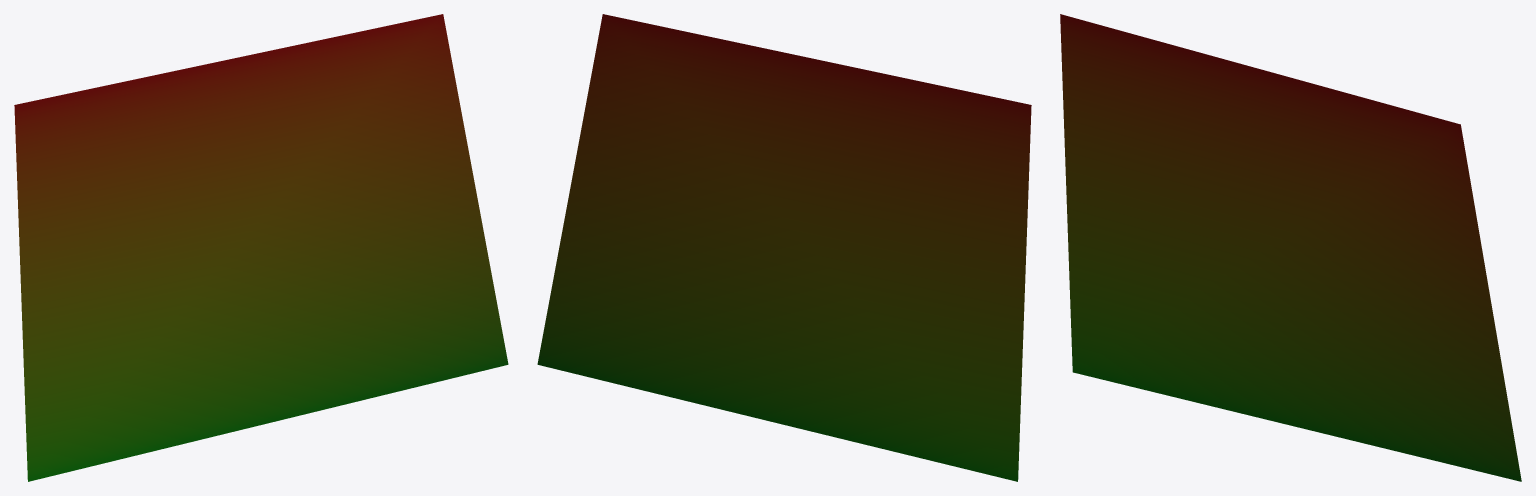
The model's file is Var6_LOD3.fbx.
3 views of the same model, side by side, from view 1: azimuth 30°, elevation 25°; view 2: azimuth 150°, elevation 25°; view 3: azimuth 330°, elevation 25° (orthographic). The views are drawn at different scales.
Parts seen in each view (by area): view 1: _be68_Var6_LOD3; view 2: _be68_Var6_LOD3; view 3: _be68_Var6_LOD3.
Part boxes in pixels (x1=…): _be68_Var6_LOD3: x1=14, y1=14, x2=508, y2=481; _be68_Var6_LOD3: x1=537, y1=14, x2=1031, y2=481; _be68_Var6_LOD3: x1=1060, y1=14, x2=1521, y2=481.
Bounding box in the file's own units: 34.08 × 25.06 × 1.65e-05.
